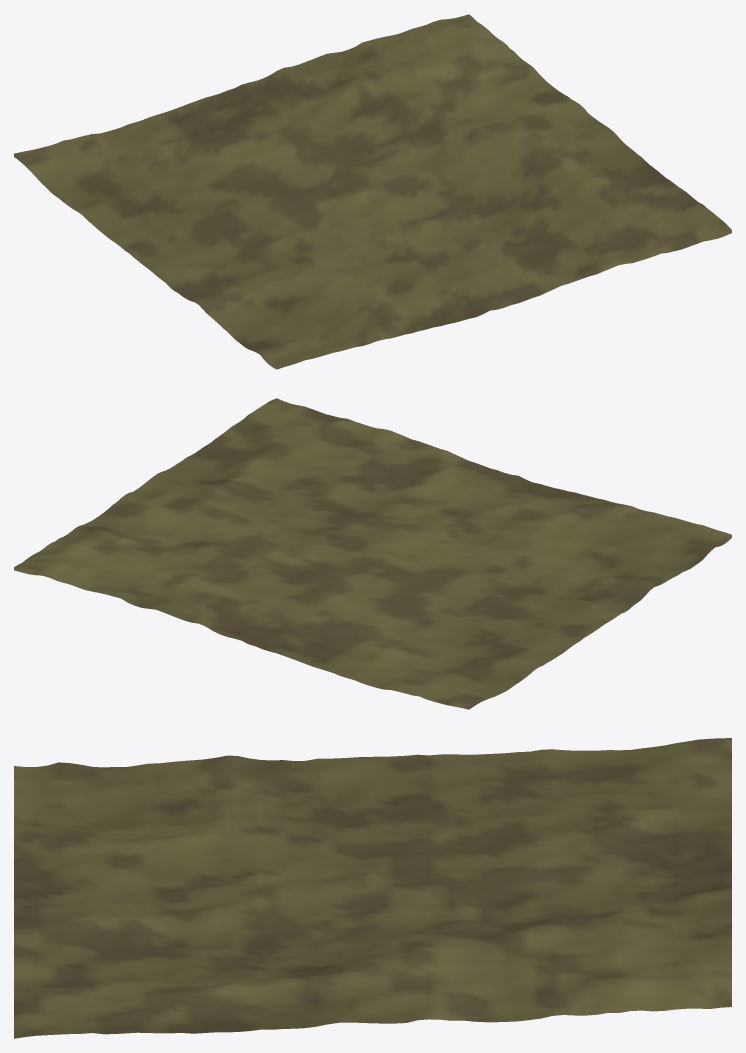
Rendered from land_f_06_03.glb.
3 renders of one model, top to bottom at view 1: azimuth 30°, elevation 25°; view 2: azimuth 150°, elevation 25°; view 3: azimuth 270°, elevation 25°, orthographic. The views are drawn at different scales.
Visible parts, largest first — view 1: land_f_06_03; view 2: land_f_06_03; view 3: land_f_06_03.
Part boxes in pixels (x1,y1,x2,y2): land_f_06_03: (14, 14, 731, 369); land_f_06_03: (14, 398, 731, 709); land_f_06_03: (14, 738, 731, 1038).
Size of the model in its own units: 3840 by 455 by 3840.
